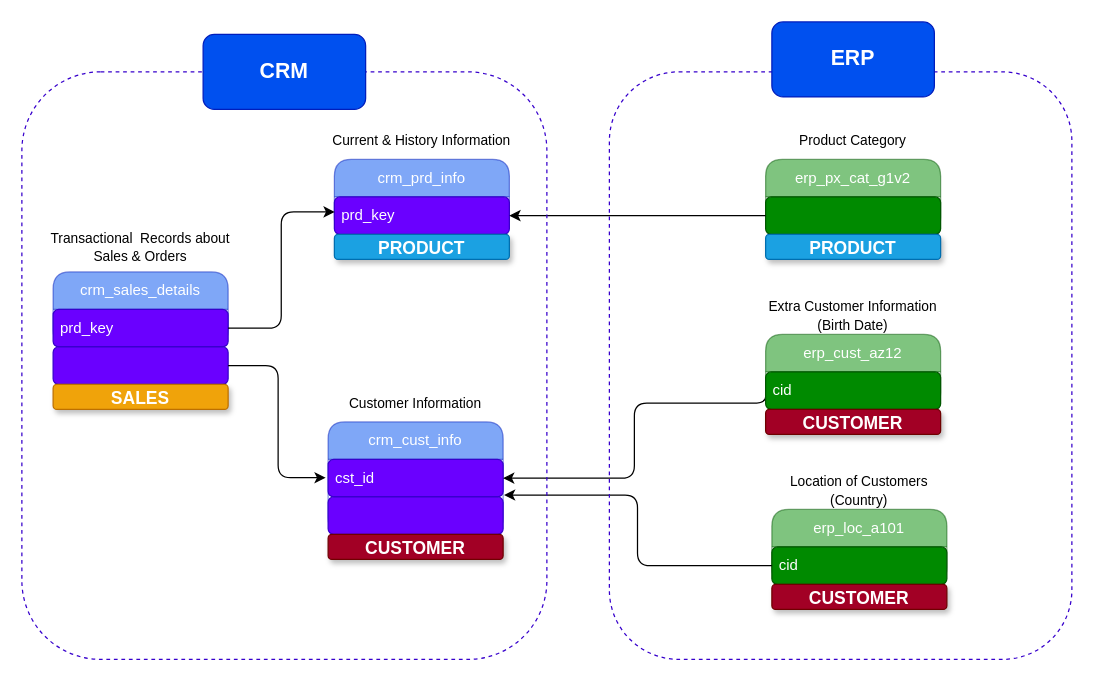
Some shapes in this 1094 by 681 pixel diagram are drawn without their labels. Each missing label, with the centre of its shape:
cst_key: (415,515)
cust_key: (140,365)
id: (852,215)
